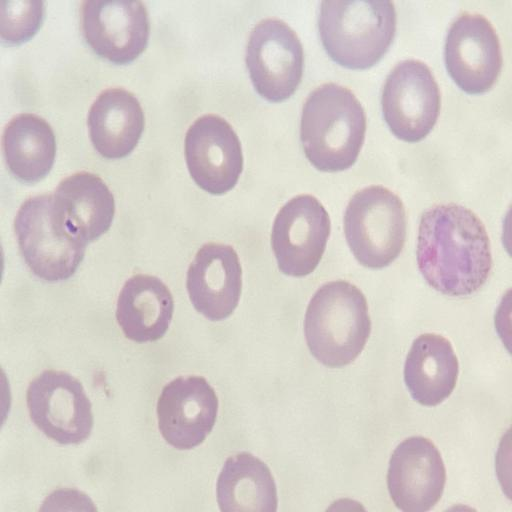Infected: (416, 203, 490, 295)
Uninfected: (298, 84, 365, 169), (303, 282, 369, 366), (15, 198, 79, 279), (319, 0, 395, 67), (343, 187, 406, 267), (26, 370, 93, 445), (380, 60, 439, 140), (272, 195, 330, 276), (51, 173, 114, 247), (245, 19, 304, 98), (184, 115, 243, 191), (156, 376, 217, 449), (443, 13, 500, 91), (187, 244, 241, 320), (387, 438, 444, 510), (81, 1, 147, 62), (115, 274, 173, 343), (87, 88, 144, 157), (404, 335, 457, 404), (1, 113, 56, 179)
